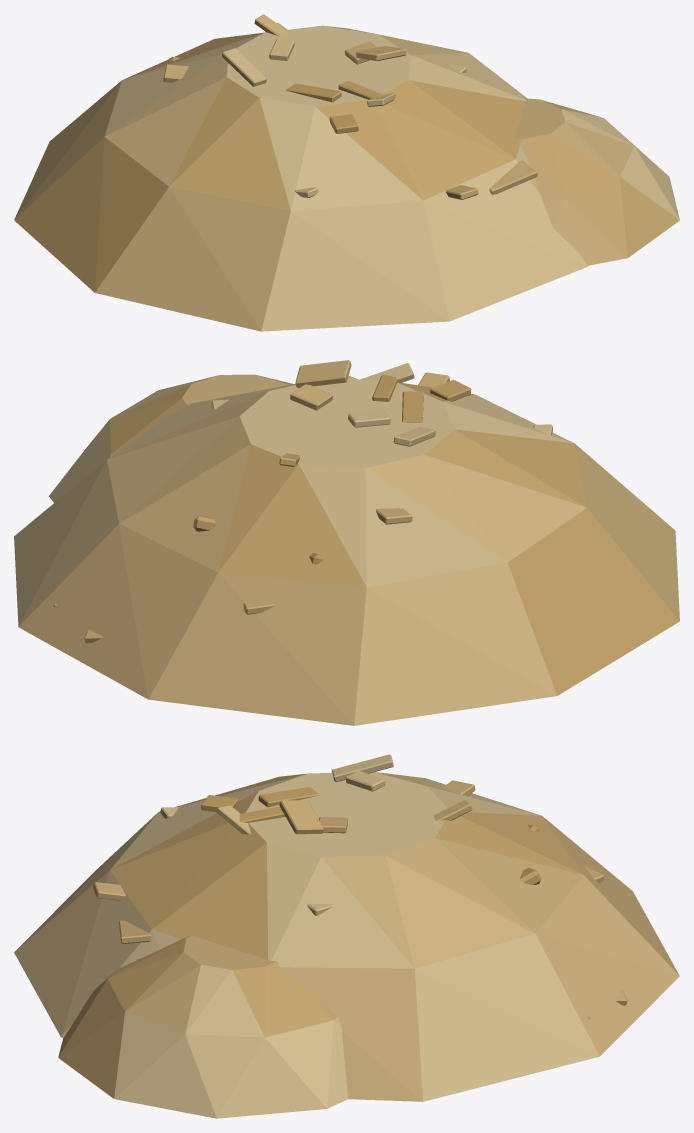
Rendered from SawdustPile.glb.
3 renders of one model, top to bottom at view 1: azimuth 30°, elevation 25°; view 2: azimuth 150°, elevation 25°; view 3: azimuth 270°, elevation 25°, orthographic. The views are drawn at different scales.
Parts seen in each view (by area): view 1: Body; view 2: Body; view 3: Body.
Part boxes in pixels (bbox=[...]): Body: bbox=[14, 14, 679, 331]; Body: bbox=[14, 360, 679, 725]; Body: bbox=[14, 754, 679, 1118].
Size of the model in its own units: 5.63 by 1.61 by 5.43.
